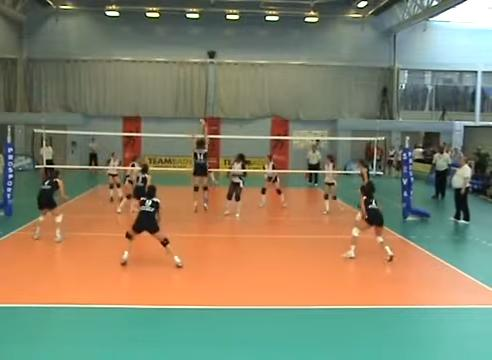muro: (184, 119, 218, 215)
